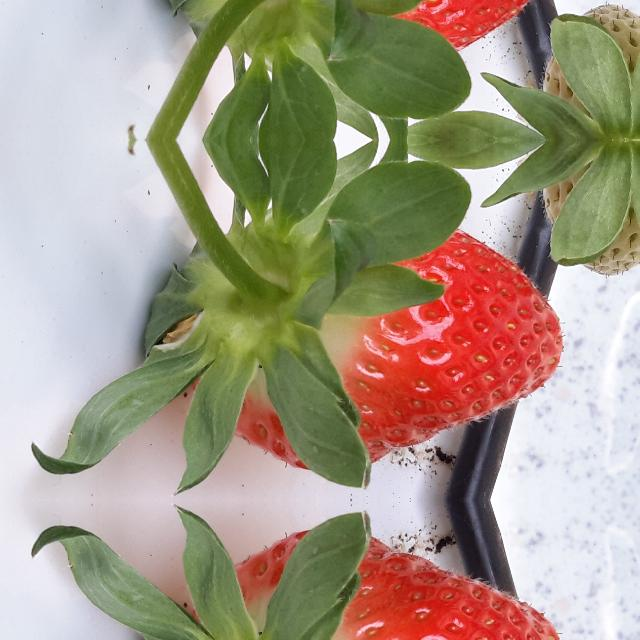Health_100: (191, 227, 564, 467), (190, 533, 563, 640), (190, 0, 563, 53)
